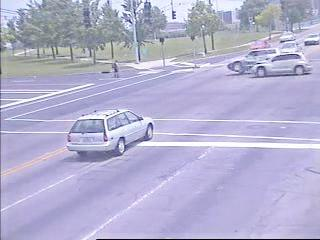Car: (66, 106, 156, 157), (252, 53, 313, 78), (226, 47, 280, 75), (275, 40, 304, 56), (249, 40, 274, 51), (303, 32, 320, 48), (280, 31, 297, 43)
Major Accident: (223, 47, 315, 80)
